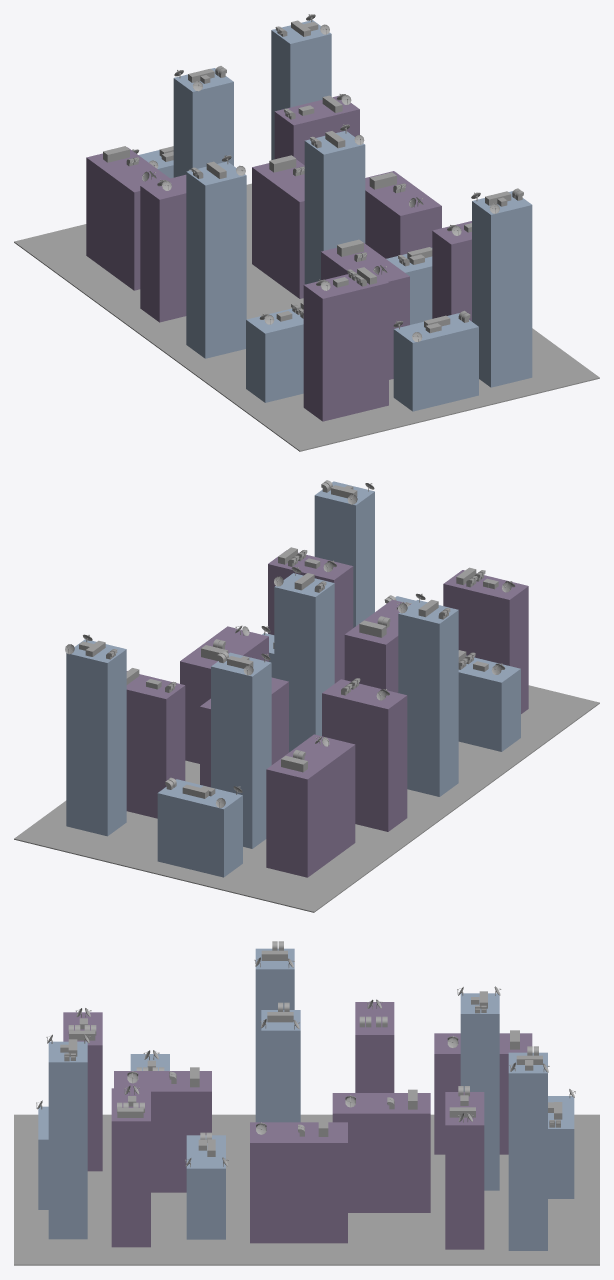
File: transition_mod1.fbx
The picture shows the model from 3 angles, top to bottom: view 1: azimuth 30°, elevation 25°; view 2: azimuth 150°, elevation 25°; view 3: azimuth 270°, elevation 25°; orthographic projection. The views are drawn at different scales.
Parts seen in each view (by area): view 1: sidewalk12, small_building13, plain_build3, plain_build1, plain_build5, square_building8, small_building22, small_building21, square_building9, plain_build2, plain_build6, square_building11 (+5 smaller); view 2: sidewalk12, plain_build6, square_building8, plain_build3, small_building21, plain_build2, plain_build5, small_building14, small_building20, small_building13, plain_build1, small_building15 (+4 smaller); view 3: sidewalk12, square_building11, square_building9, plain_build1, plain_build6, square_building12, small_building14, small_building12, plain_build2, plain_build5, small_building11, square_building8 (+6 smaller).
Boxes of the visible parts, left/top/right/bottom form: sidewalk12: left=14, top=183, right=599, bottom=451; small_building13: left=303, top=269, right=388, bottom=421; plain_build3: left=186, top=161, right=246, bottom=358; plain_build1: left=472, top=191, right=532, bottom=387; plain_build5: left=304, top=131, right=365, bottom=284; square_building8: left=86, top=147, right=169, bottom=290; small_building22: left=393, top=313, right=478, bottom=411; small_building21: left=140, top=174, right=186, bottom=322; square_building9: left=252, top=159, right=304, bottom=298; plain_build2: left=173, top=68, right=233, bottom=177; plain_build6: left=271, top=20, right=331, bottom=159; square_building11: left=365, top=171, right=441, bottom=258; sidewalk12: left=14, top=685, right=599, bottom=912; plain_build6: left=66, top=639, right=126, bottom=836; square_building8: left=266, top=734, right=355, bottom=877; plain_build3: left=398, top=600, right=458, bottom=796; small_building21: left=322, top=679, right=407, bottom=831; plain_build2: left=211, top=652, right=271, bottom=848; plain_build5: left=274, top=573, right=334, bottom=752; small_building14: left=126, top=671, right=185, bottom=818; small_building20: left=157, top=779, right=242, bottom=877; small_building13: left=443, top=570, right=528, bottom=713; plain_build1: left=314, top=481, right=374, bottom=627; small_building15: left=458, top=655, right=520, bottom=751; sidewalk12: left=14, top=1114, right=599, bottom=1265; square_building11: left=250, top=1122, right=347, bottom=1243; square_building9: left=332, top=1093, right=430, bottom=1212; plain_build1: left=48, top=1041, right=87, bottom=1239; plain_build6: left=508, top=1052, right=547, bottom=1250; square_building12: left=114, top=1071, right=211, bottom=1192; small_building14: left=445, top=1092, right=484, bottom=1249; small_building12: left=111, top=1088, right=150, bottom=1247; plain_build2: left=460, top=993, right=499, bottom=1190; plain_build5: left=261, top=1010, right=300, bottom=1122; small_building11: left=186, top=1135, right=225, bottom=1239; square_building8: left=434, top=1033, right=532, bottom=1154.
Bounding box in the file's own units: 36.25 × 21.21 × 59.82.
